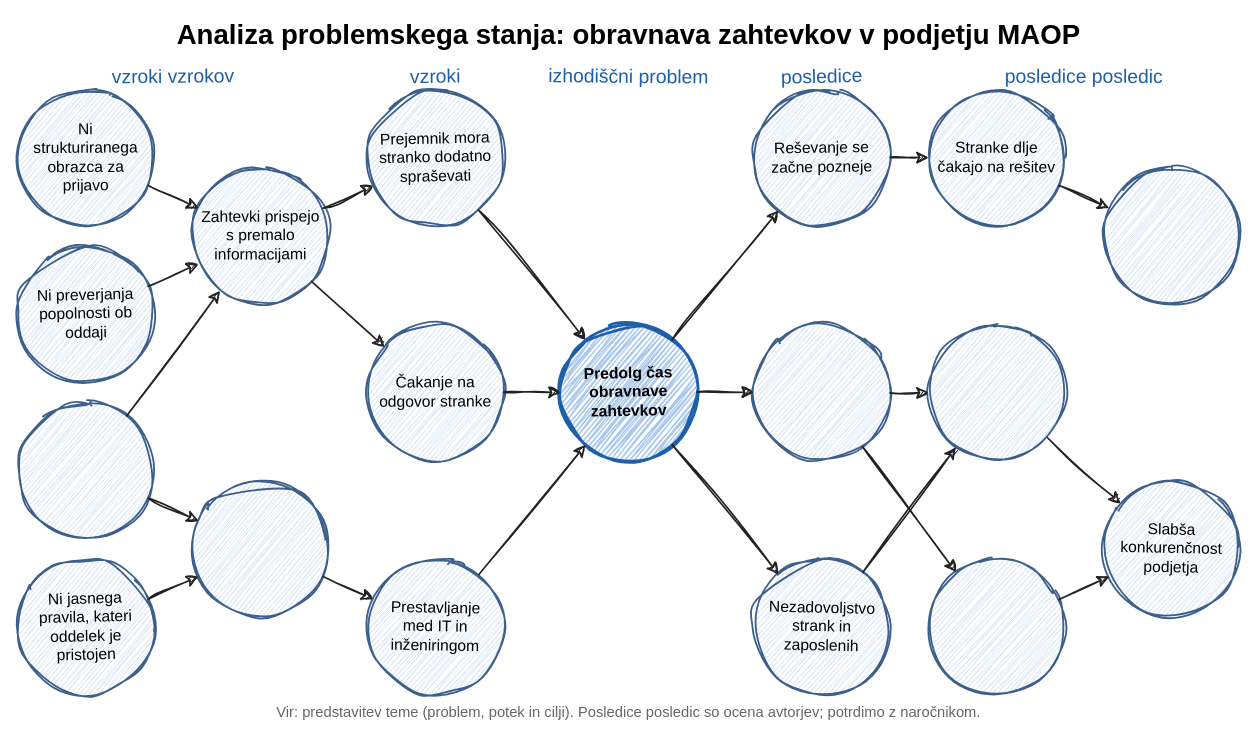
Some shapes in this 1259 by 740 pixel diagram are drawn without their labels. The shapes that lost their labels are listed below. From the top down, each one's centre as x and y in pixels, then its label:
At point 1171,235: "Slabše zadovoljstvo strank".
At point 821,391: "Izgubljen čas stranke in reševalca".
At point 996,392: "Višji stroški podpore".
At point 86,470: "Stranka ne ve, katere podatke oddelek potrebuje".
At point 260,548: "Zahtevek ni takoj v pravem oddelku".
At point 996,626: "Manj časa za razvoj in uvajanje".
